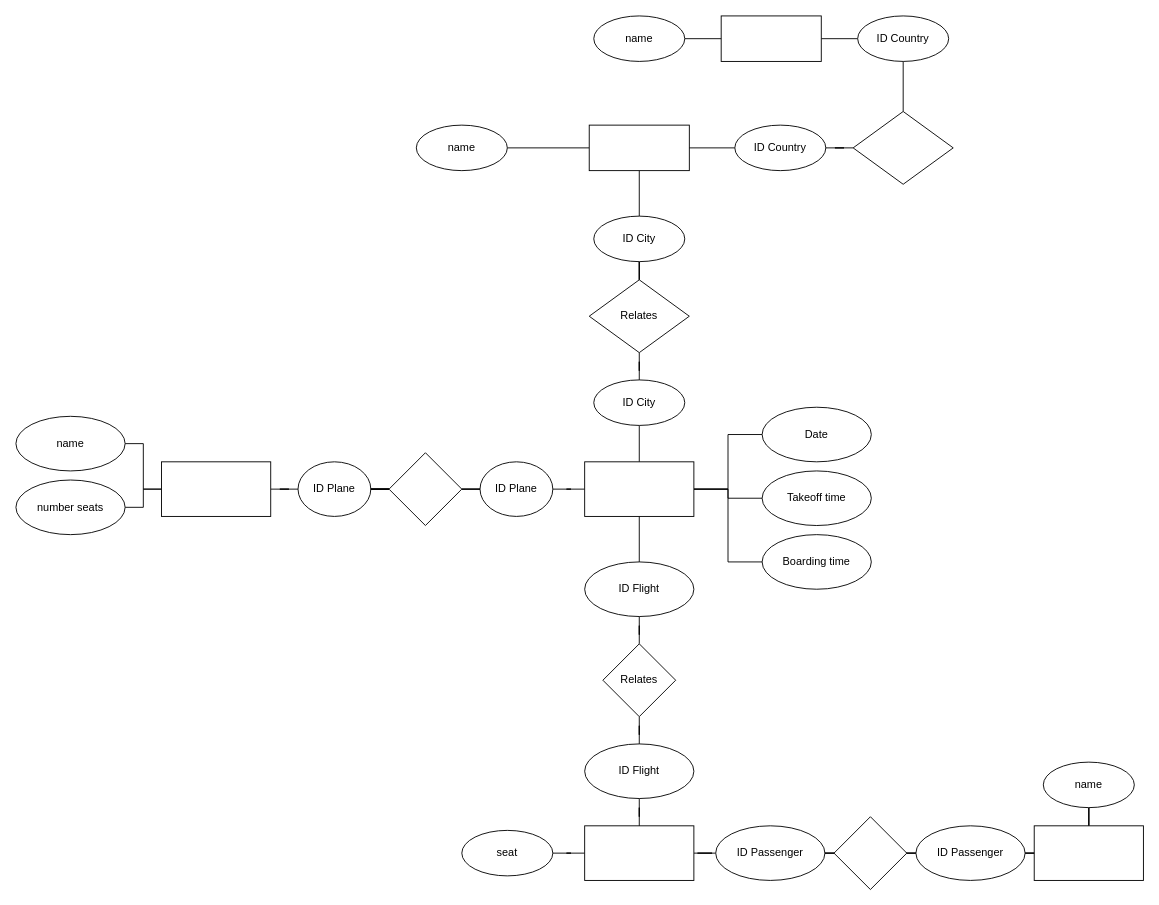
The diagram is 1159 pixels wide and 905 high, and some of its shapes have lost their labels. Each missing label, with the centre of its shape:
"City" goes at (x=638, y=147).
"Contains" goes at (x=902, y=147).
"Country" goes at (x=770, y=38).
"Defines" goes at (x=870, y=853).
"Execute" goes at (x=425, y=489).
"Flight" goes at (x=639, y=488).
"Passenger" goes at (x=1088, y=852).
"Plane" goes at (x=216, y=488).
"Ticket" goes at (x=639, y=852).
